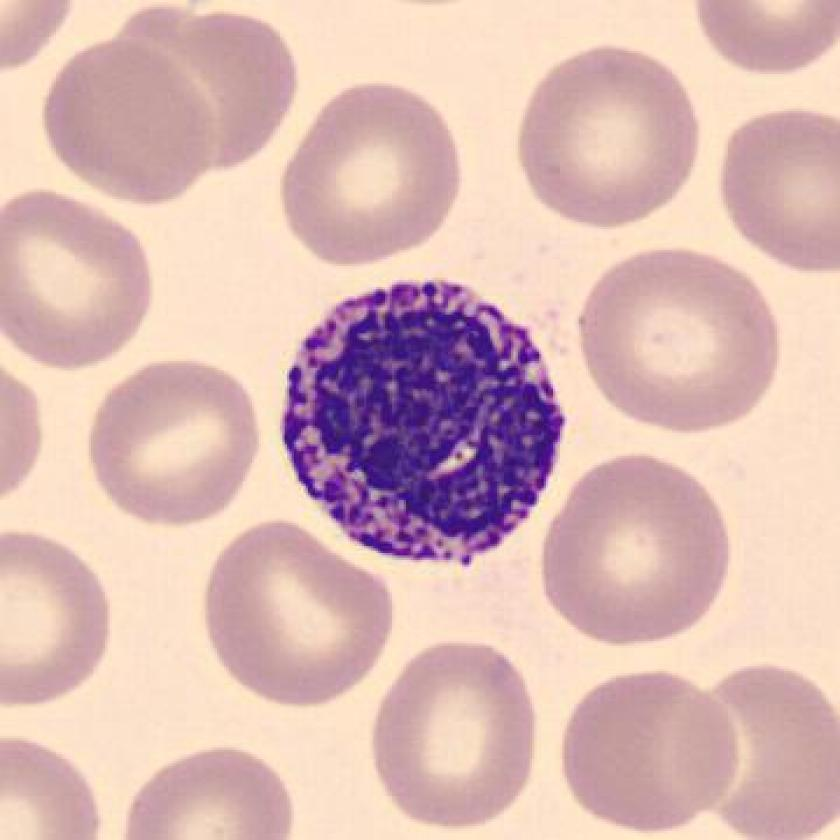basophil: (274, 270, 566, 573)
